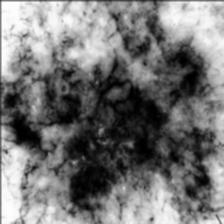Potentially Malignant Skin Tumors: (0, 0, 220, 209)
